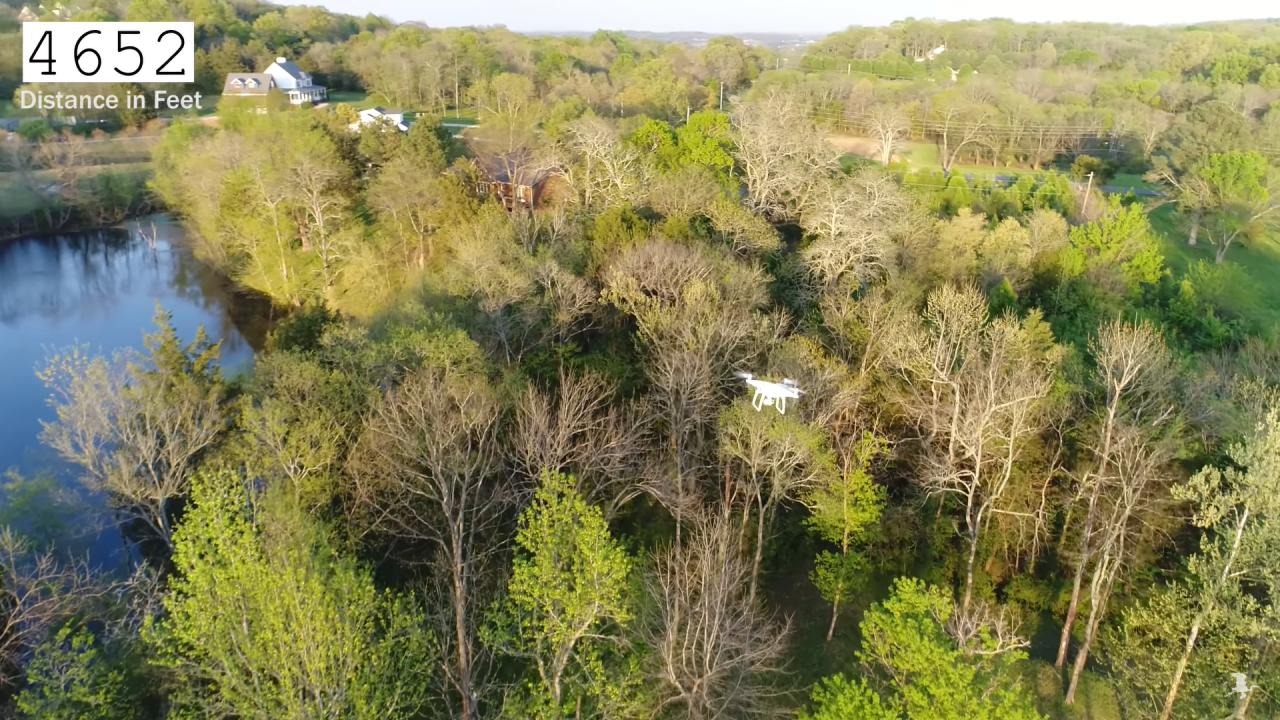Drone: (725, 360, 816, 422)
